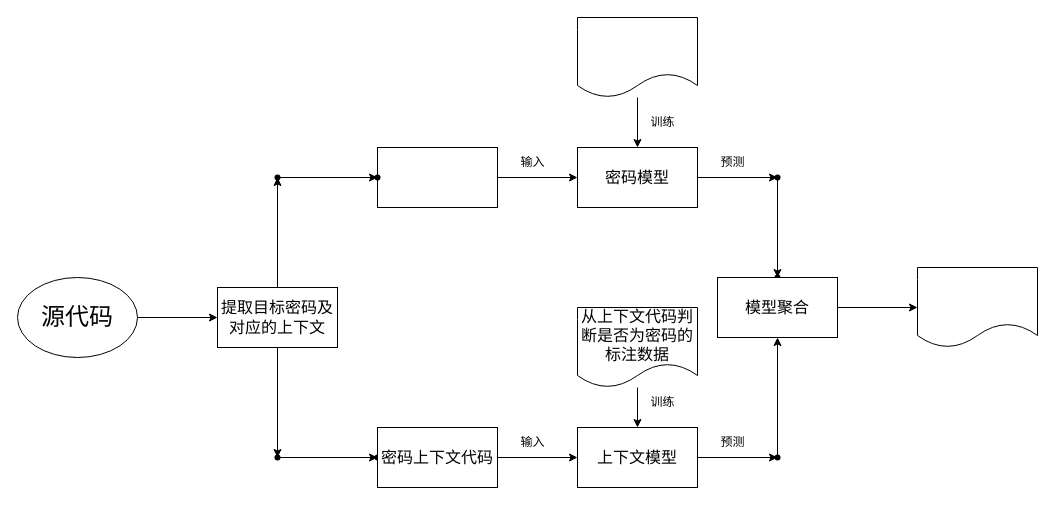
Some shapes in this 1055 by 505 pixel diagram are drawn without their labels. The shapes that lost their labels are listed below. From the top down, each one's box as (x1, y1, x2, y2) in pixels, then its label:
(576, 16, 698, 98): 从密码数据集种随机选择的密码
(376, 146, 498, 208): 密码字符串
(916, 266, 1038, 348): 泄露的密码
